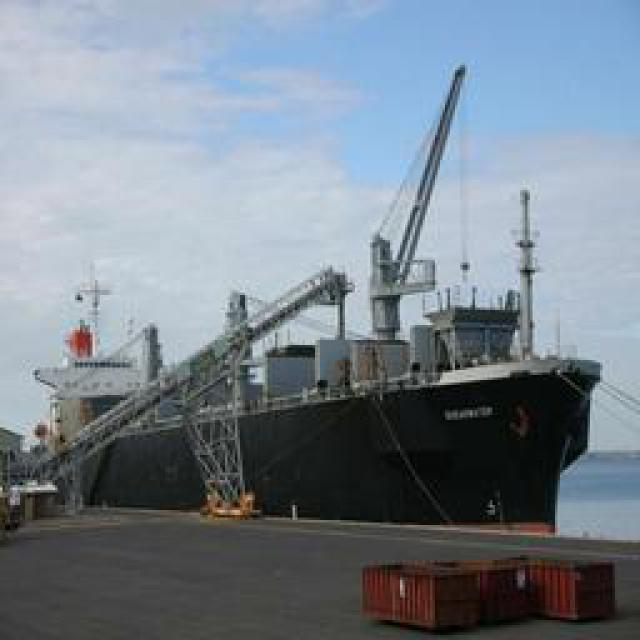Ship: (56, 55, 606, 528)
